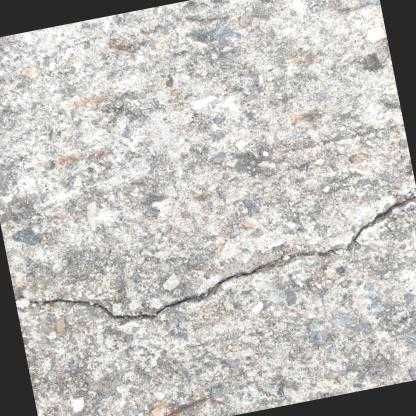crack: (32, 196, 416, 319)
